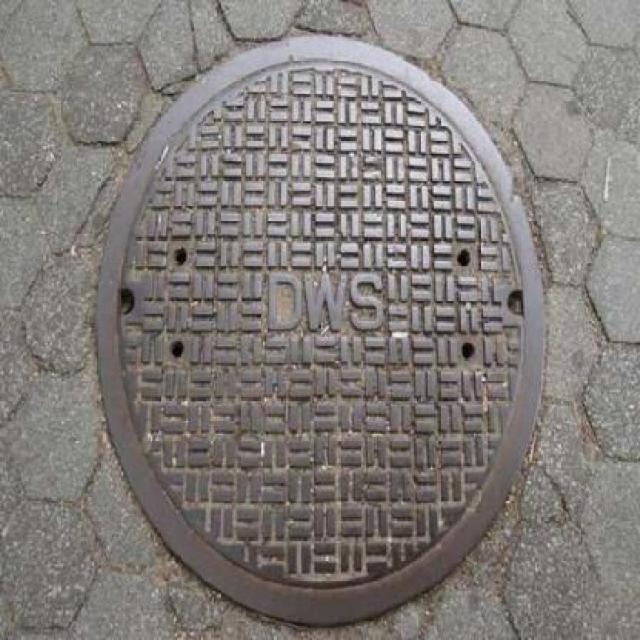Manhole: (91, 27, 564, 636)
